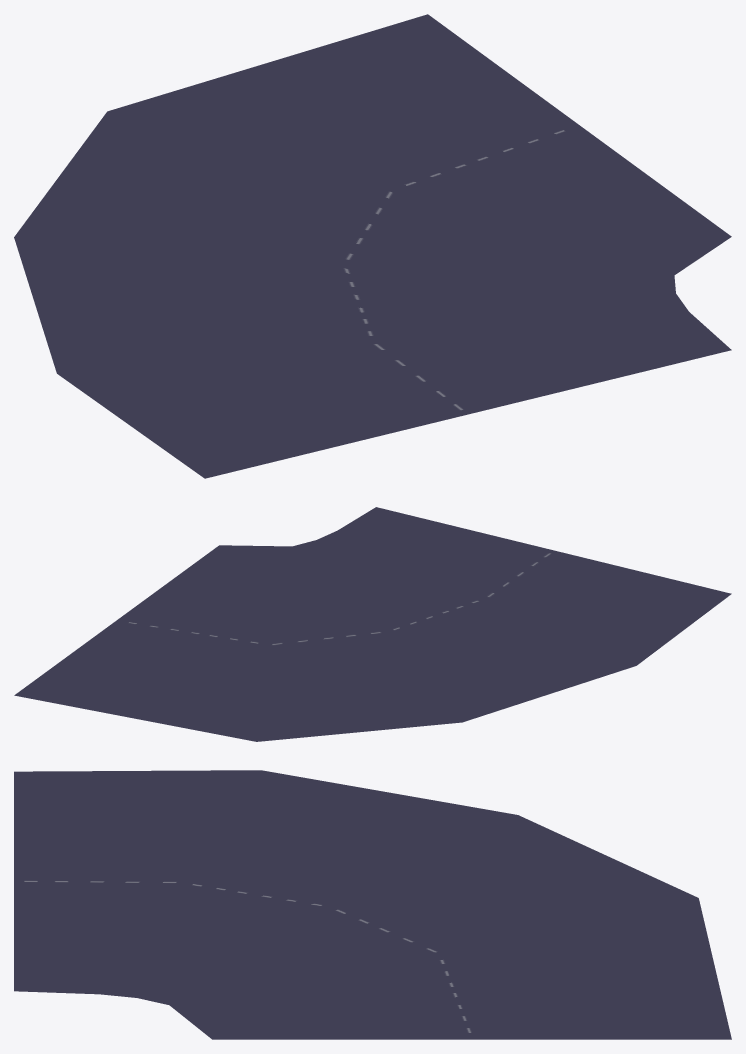
Rendered from Turn_right.fbx.
3 views of the same model, one above another, from view 1: azimuth 30°, elevation 25°; view 2: azimuth 150°, elevation 25°; view 3: azimuth 270°, elevation 25° (orthographic). The views are drawn at different scales.
Parts seen in each view (by area): view 1: Block_1.009; view 2: Block_1.009; view 3: Block_1.009.
Boxes of the visible parts, box(x1,y1,x2,y2) form: Block_1.009: box(14, 14, 731, 478); Block_1.009: box(14, 507, 731, 741); Block_1.009: box(14, 770, 731, 1039).
Bounding box in the file's own units: 24.27 × 0 × 27.32.
